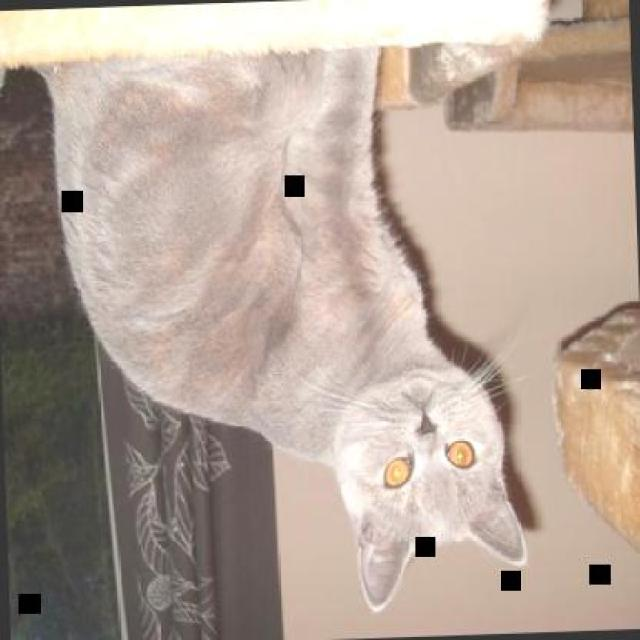cat: (18, 45, 530, 624)
